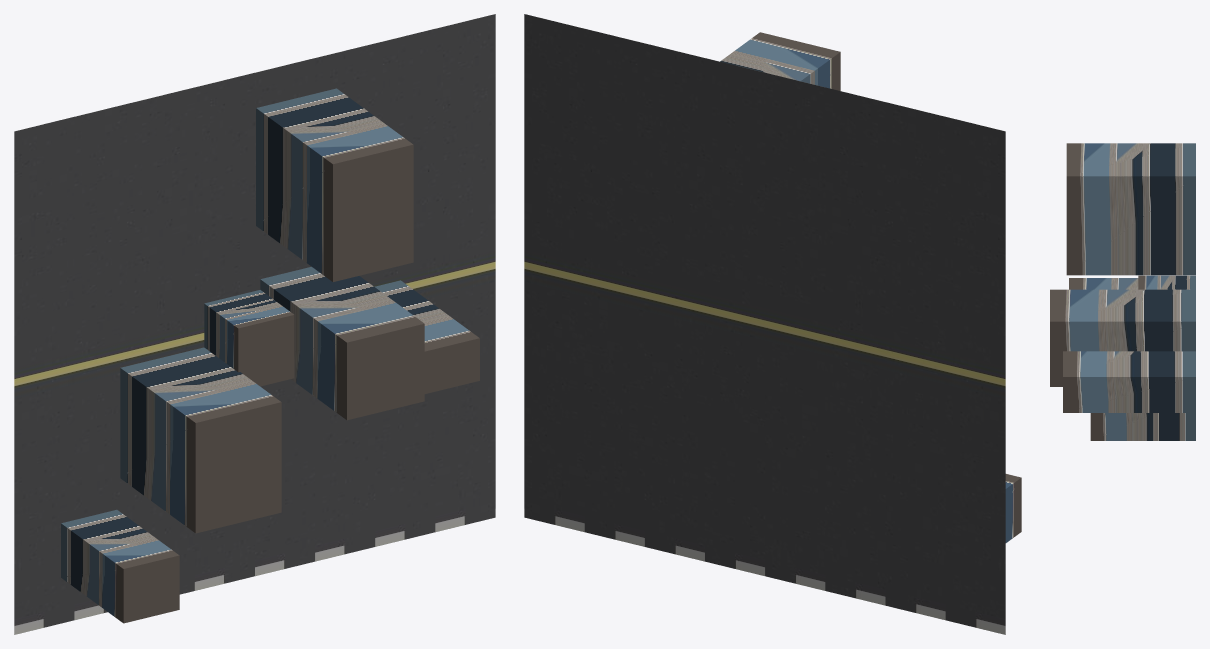
3 renders of one model, left to right at view 1: azimuth 30°, elevation 25°; view 2: azimuth 150°, elevation 25°; view 3: azimuth 270°, elevation 25°, orthographic. The views are drawn at different scales.
Bounding box in the file's own units: 119 × 119 × 37.18.
Materials: 2 (2 with a texture image).
